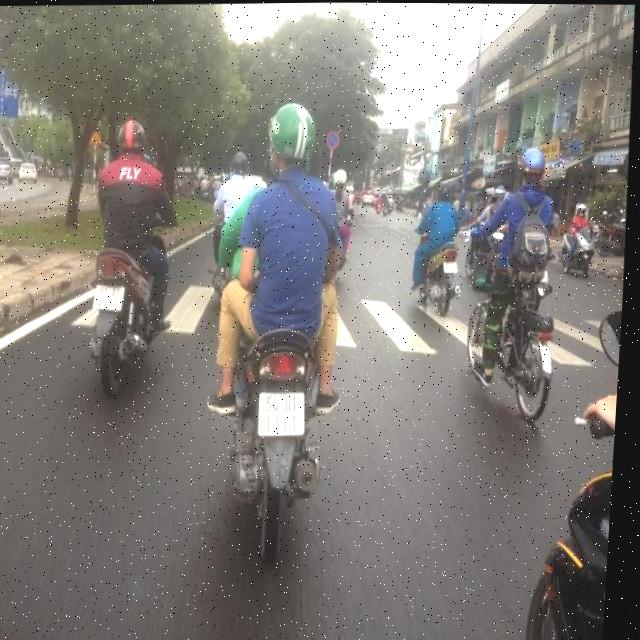motorcycle: (216, 313, 334, 569), (451, 241, 565, 435), (78, 238, 174, 401), (559, 221, 602, 283)
plate: (221, 319, 334, 547), (251, 385, 311, 442), (87, 277, 131, 317)
